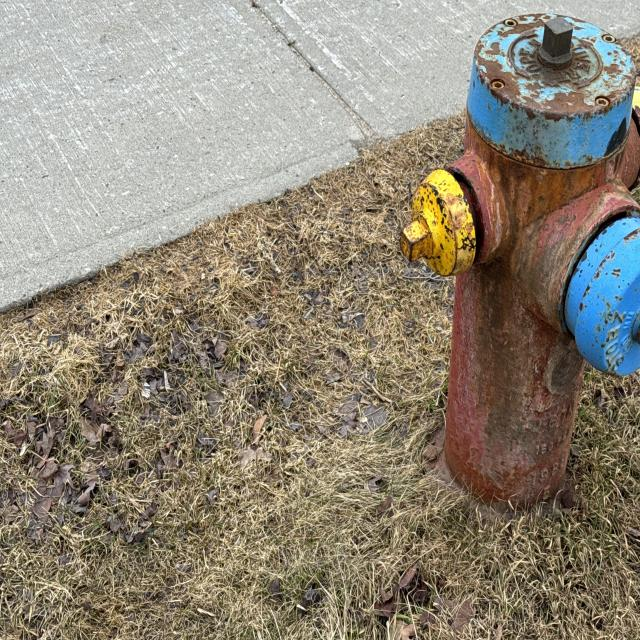Fire hydrant: (398, 12, 640, 528)
